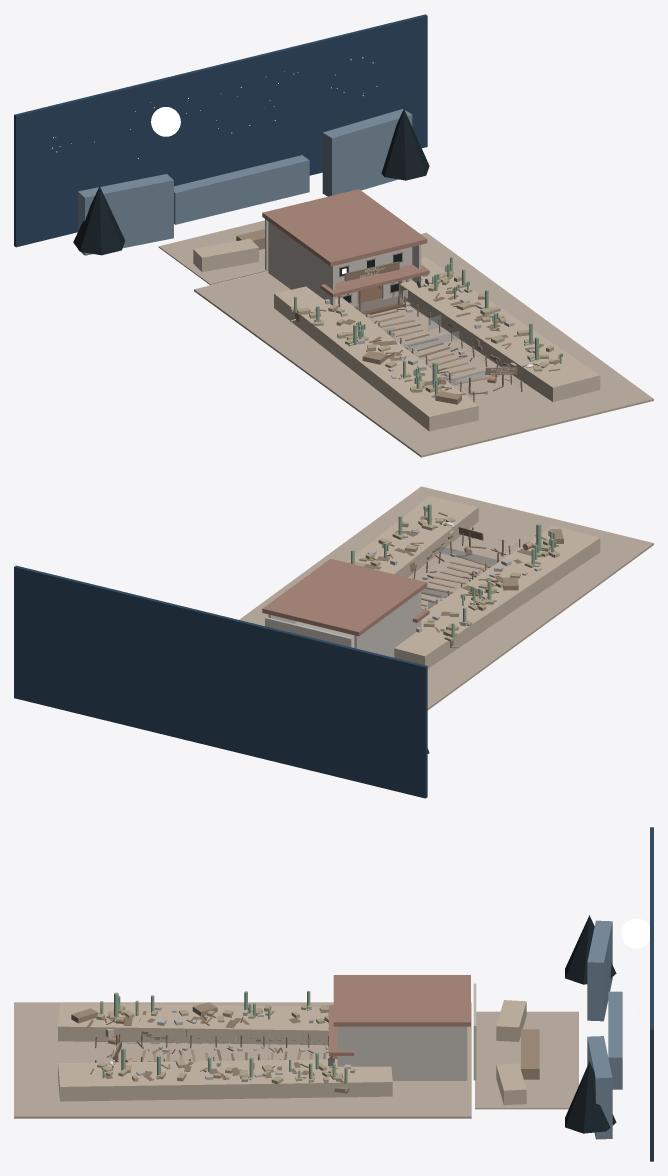
Rendered from trail_intro_pensao_integrada_v01.glb.
The picture shows the model from 3 angles, top to bottom: view 1: azimuth 30°, elevation 25°; view 2: azimuth 150°, elevation 25°; view 3: azimuth 270°, elevation 25°; orthographic projection.
Visible parts, largest first — view 1: bg_dark_sky_wall, ground_base_world, cliff_left_main, cliff_right_main, pension_roof_main, bg_mountain_center_low, bg_mountain_right_big, bg_mountain_left_big, rear_ground_behind_pension, bg_peak_left, bg_peak_right, pension_left_second_wall (+5 smaller); view 2: bg_dark_sky_wall, ground_base_world, cliff_left_main, pension_roof_main, cliff_right_main, pension_left_second_wall, pension_back_second_wall, pension_left_wall; view 3: ground_base_world, cliff_right_main, cliff_left_main, rear_ground_behind_pension, pension_roof_main, pension_right_second_wall, pension_right_wall, bg_mountain_left_big, bg_peak_right, bg_mountain_right_big, bg_mountain_center_low, bg_dark_sky_wall (+5 smaller).
Part boxes in pixels (x1,y1,x2,y2): bg_dark_sky_wall: (14, 14, 427, 247); ground_base_world: (194, 232, 653, 457); cliff_left_main: (274, 286, 478, 431); cliff_right_main: (400, 257, 600, 401); pension_roof_main: (262, 189, 427, 266); bg_mountain_center_low: (174, 155, 309, 224); bg_mountain_right_big: (322, 109, 412, 196); bg_mountain_left_big: (78, 174, 173, 255); rear_ground_behind_pension: (158, 220, 268, 285); bg_peak_left: (73, 186, 125, 255); bg_peak_right: (381, 109, 429, 180); pension_left_second_wall: (268, 221, 335, 289); bg_dark_sky_wall: (14, 565, 427, 798); ground_base_world: (239, 486, 653, 710); cliff_left_main: (394, 525, 600, 668); pension_roof_main: (262, 559, 427, 636); cliff_right_main: (346, 496, 478, 577); pension_left_second_wall: (354, 591, 421, 651); pension_back_second_wall: (265, 617, 352, 647); pension_left_wall: (370, 620, 421, 657); ground_base_world: (14, 1002, 471, 1118); cliff_right_main: (58, 1059, 392, 1101); cliff_left_main: (58, 1003, 328, 1045); rear_ground_behind_pension: (475, 1011, 578, 1109); pension_roof_main: (333, 975, 470, 1026); pension_right_second_wall: (337, 1026, 467, 1051); pension_right_wall: (337, 1051, 467, 1080); bg_mountain_left_big: (587, 920, 612, 1021); bg_peak_right: (565, 1061, 616, 1133); bg_mountain_right_big: (587, 1036, 612, 1139); bg_mountain_center_low: (608, 991, 622, 1089); bg_dark_sky_wall: (650, 827, 653, 1161).
Size of the model in its own units: 46 by 14.32 by 61.52.
